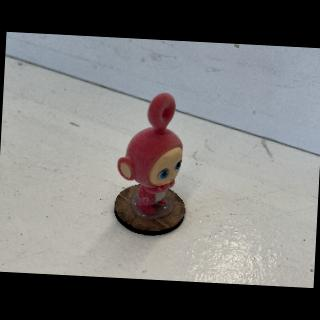teletubby: (117, 93, 183, 215)
